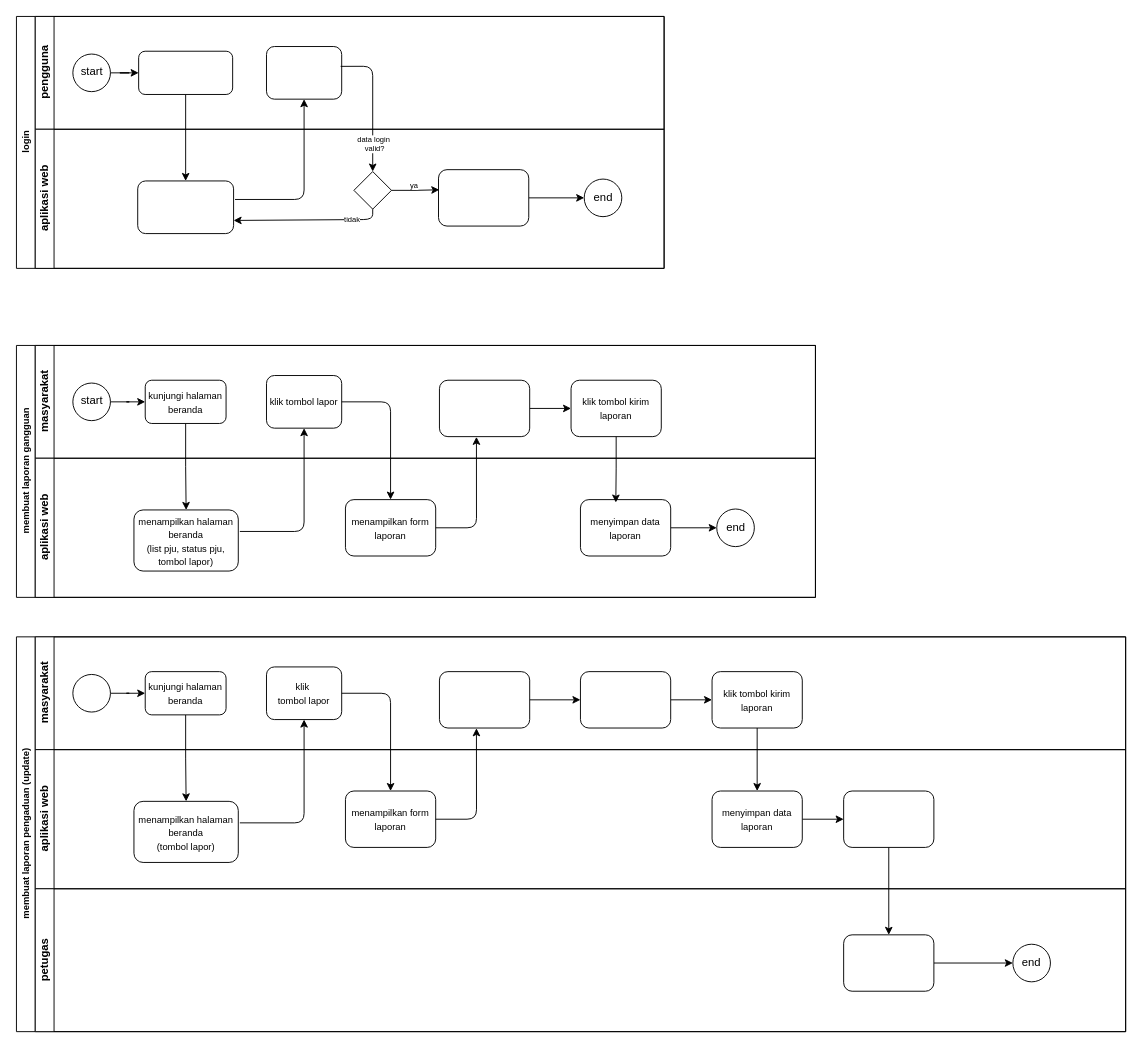
Some shapes in this 1142 by 1048 pixel diagram are drawn without their labels. The shapes that lost their labels are listed below. From the top down, each one's centre as x and y in pixels, then its label:
point 185,72: klik tombol 'login'
point 304,72: masukkan username dan password
point 185,207: menampilkan halaman login
point 483,197: menampilkan halaman utama
point 484,408: isi data laporan
point 484,699: isi data laporan: - nama - no WA
point 625,699: upload gambar (akses kamera)
point 888,818: kirim notifikasi ke telegram petugas
point 888,962: menerima notifikasi pengaduan
